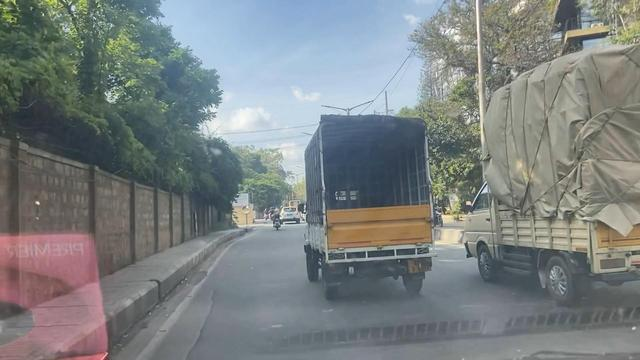HMV: (453, 49, 640, 303), (294, 100, 455, 308)
